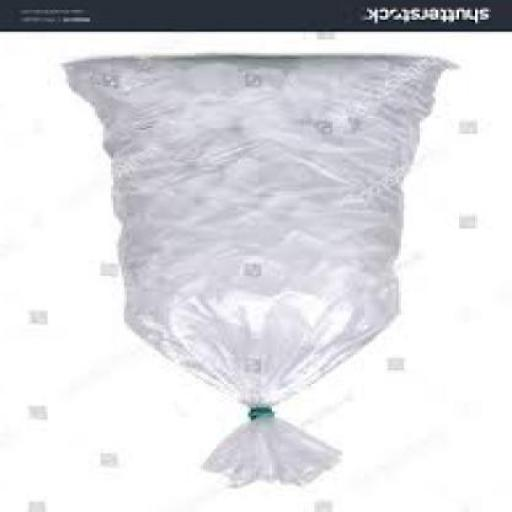plastic: (68, 57, 462, 488)
